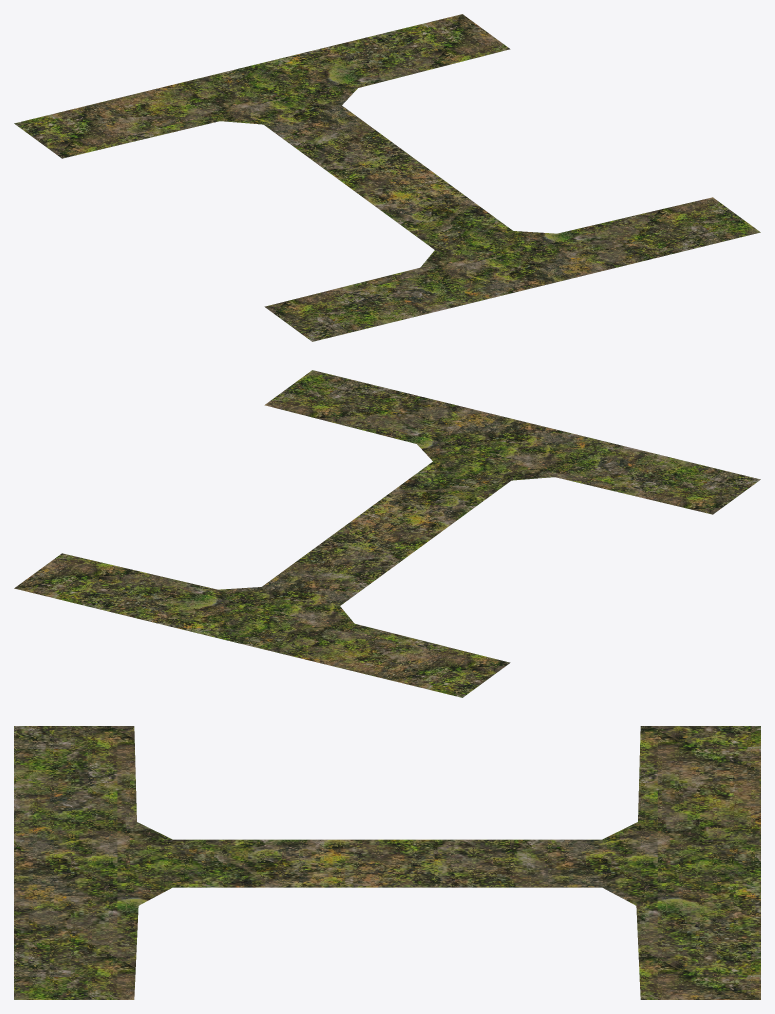
Rendered from Planter_DirtPlane_Unique10.FBX.
The picture shows the model from 3 angles, top to bottom: view 1: azimuth 30°, elevation 25°; view 2: azimuth 150°, elevation 25°; view 3: azimuth 270°, elevation 25°; orthographic projection. The views are drawn at different scales.
Visible parts, largest first — view 1: Planter_DirtPlane_Unique10; view 2: Planter_DirtPlane_Unique10; view 3: Planter_DirtPlane_Unique10.
Boxes of the visible parts, box(x1,y1,x2,y2) form: Planter_DirtPlane_Unique10: box(14, 14, 760, 341); Planter_DirtPlane_Unique10: box(14, 370, 760, 697); Planter_DirtPlane_Unique10: box(14, 726, 760, 999).
Size of the model in its own units: 4.8 by 1.57e-15 by 5.53.
